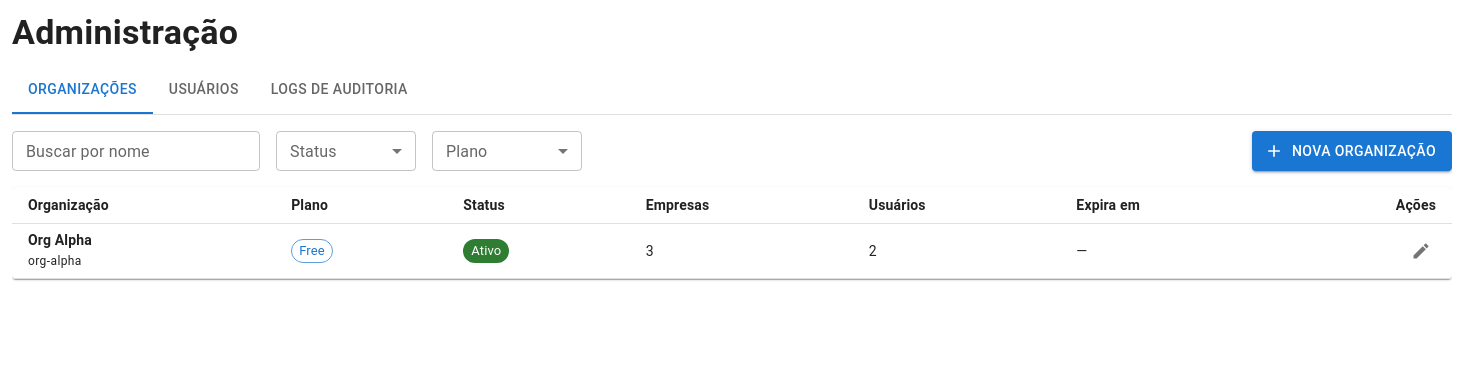
Test: AdminPage › exibe usuários ao abrir a aba Usuários
Expected: the text "Org Alpha" is shown, [28,232,92,248]
Click the tab "Usuários": (204, 90) [153,66,255,114]
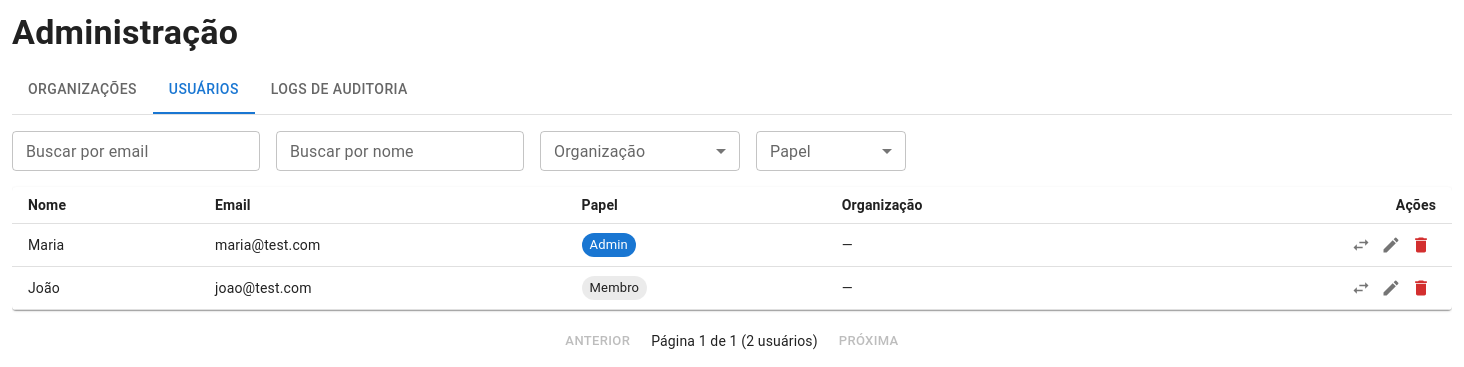
Expected: the text "maria@test.com" is shown, [199,223,566,266]
Expected: the text "joao@test.com" is shown, [199,266,566,309]
